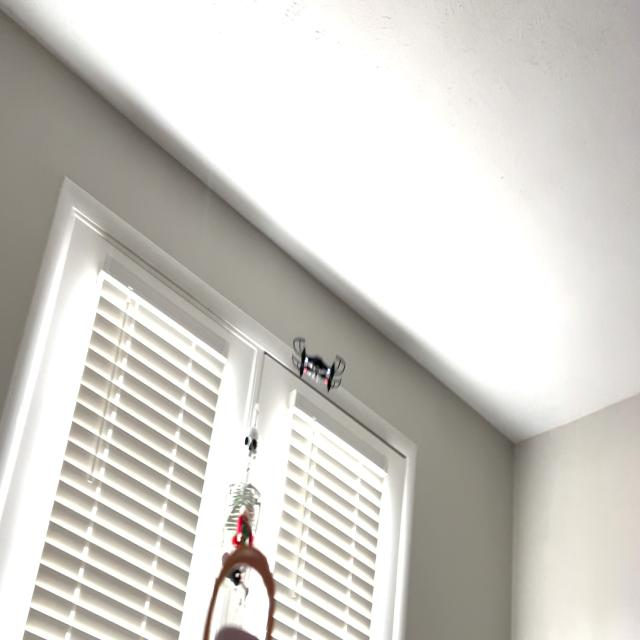drone: (285, 323, 348, 409)
